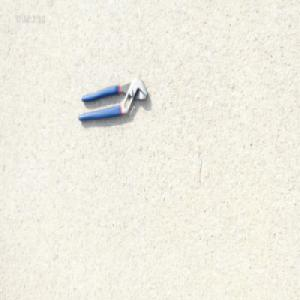Pliers: (76, 75, 148, 123)
